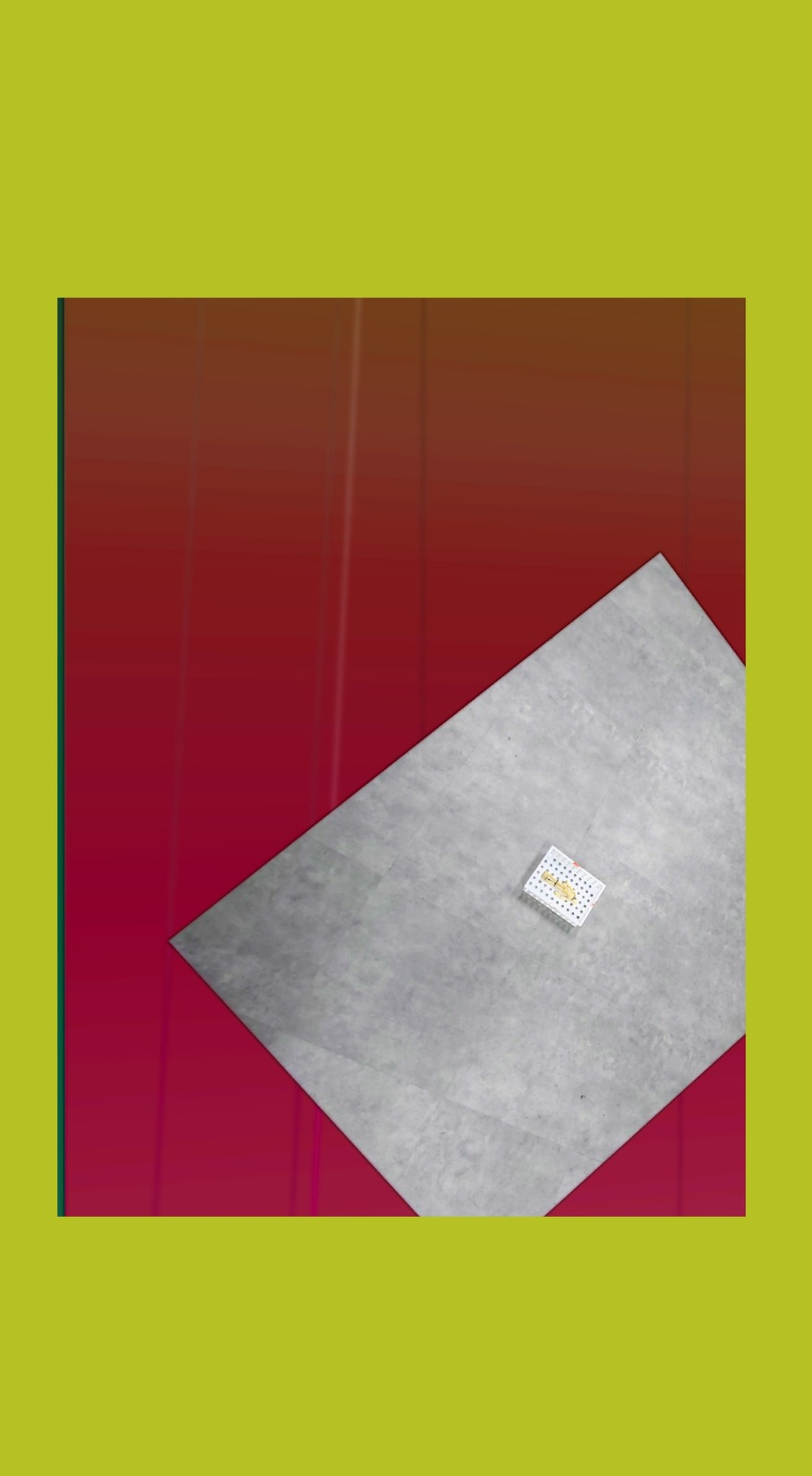basket: (521, 843, 607, 929)
mannequin: (539, 869, 579, 905)
